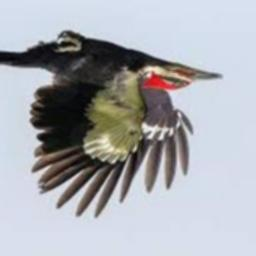Woodpecker: (0, 30, 225, 219)
